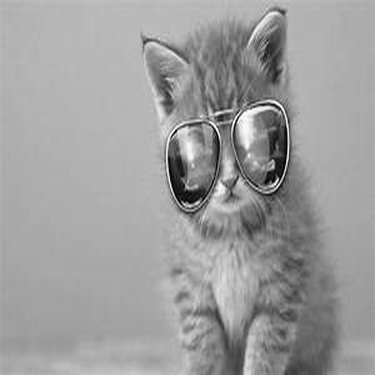cat: (136, 5, 337, 371)
